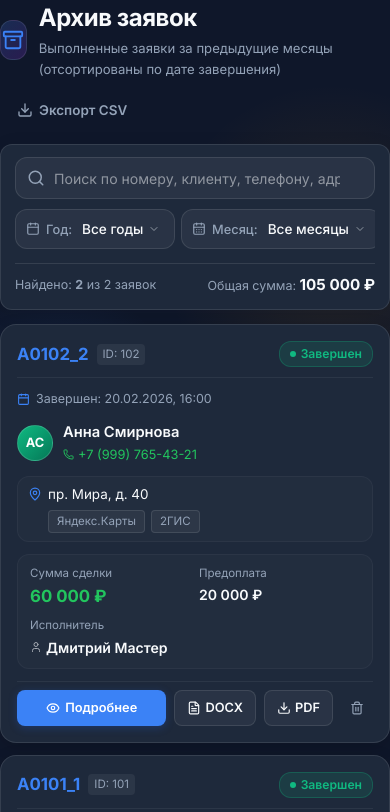
Archive Page Component › opens detail modal on mobile card click
# mobileCards[0] is the newest order А0102_2 due to desc sort by installedAt
Step 1. Click the element with class "archive-mobile-card" that starts with "А0102_2" → [16, 341], box 0,324 -> 389,743
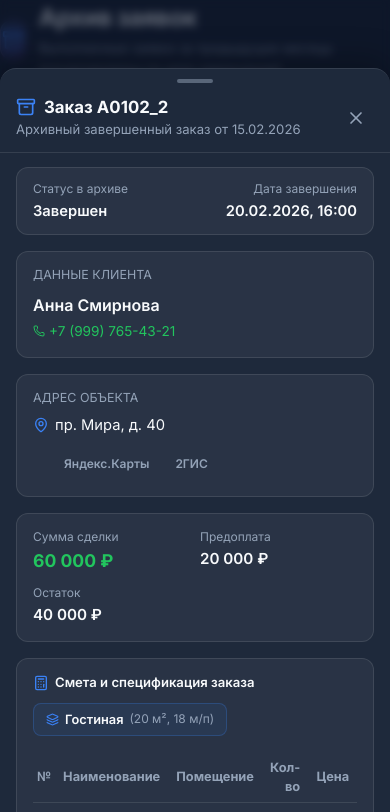
expect the text "Заказ А0102_2" is shown: met, box 16,96 -> 168,117
expect the text "Данные клиента" is shown: met, box 33,267 -> 152,282
